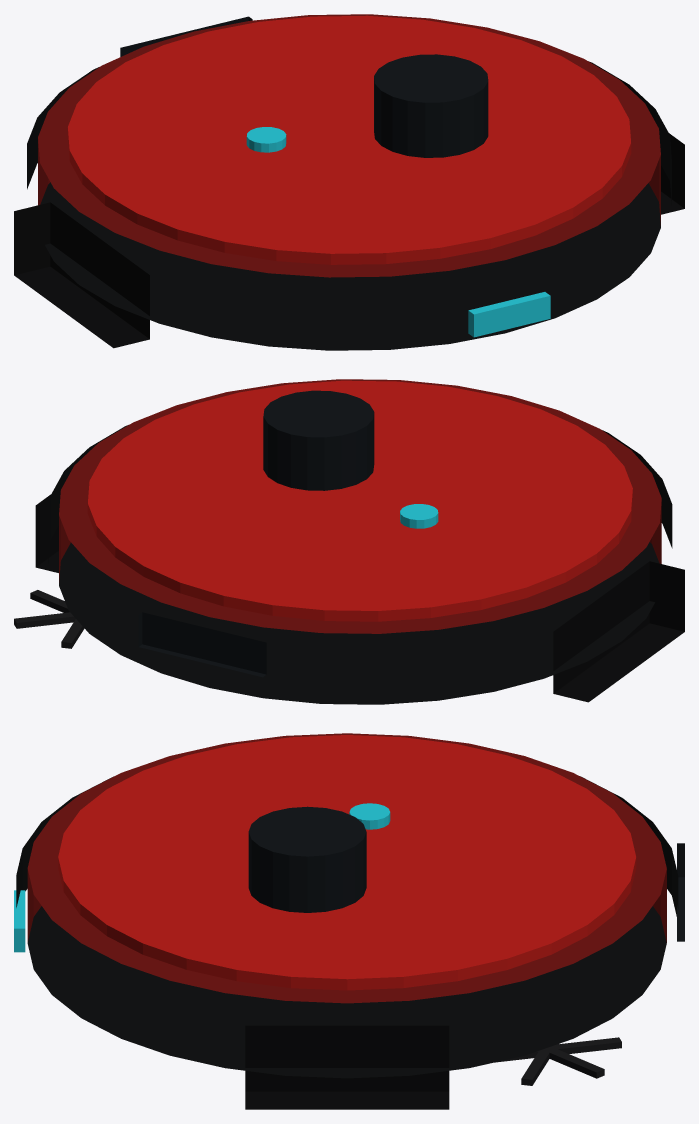
File: robot_red.obj
The picture shows the model from 3 angles, top to bottom: view 1: azimuth 30°, elevation 25°; view 2: azimuth 150°, elevation 25°; view 3: azimuth 270°, elevation 25°; orthographic projection. The views are drawn at different scales.
Parts seen in each view (by area): view 1: low_poly_robot_vacuum; view 2: low_poly_robot_vacuum; view 3: low_poly_robot_vacuum.
Boxes of the visible parts, x1,y1,x2,y2 form: low_poly_robot_vacuum: [14, 14, 684, 350]; low_poly_robot_vacuum: [14, 379, 684, 704]; low_poly_robot_vacuum: [14, 733, 684, 1109].
Size of the model in its own units: 0.596 by 0.162 by 0.592.
